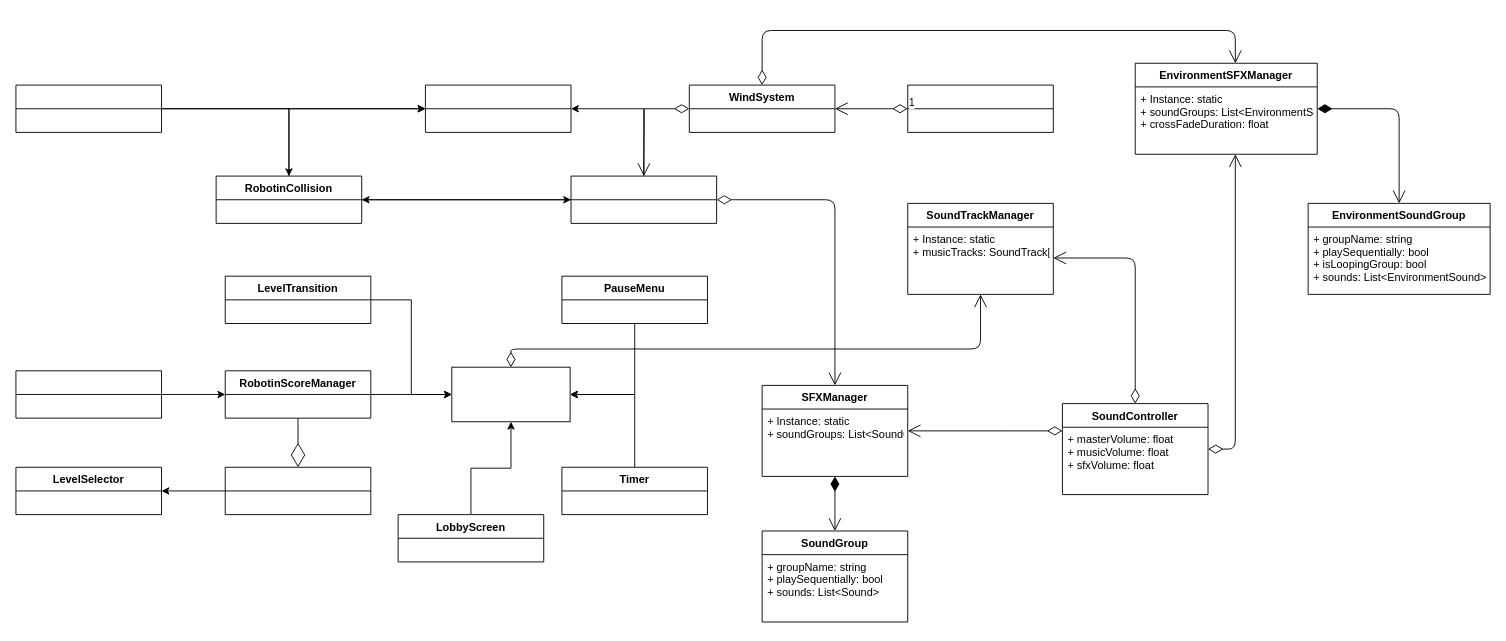
This 1506x641 diagram has some shape labels left out. Here are the shapes that lost their labels. From the top down, the centre of each, then its label:
At point (88, 108): "UpdraftZone".
At point (498, 108): "RobotinJump".
At point (980, 108): "EventSystem".
At point (643, 199): "RobotinMovement".
At point (88, 394): "StarCollectible".
At point (510, 394): "SceneManagement".
At point (297, 490): "PlayerPrefs".
